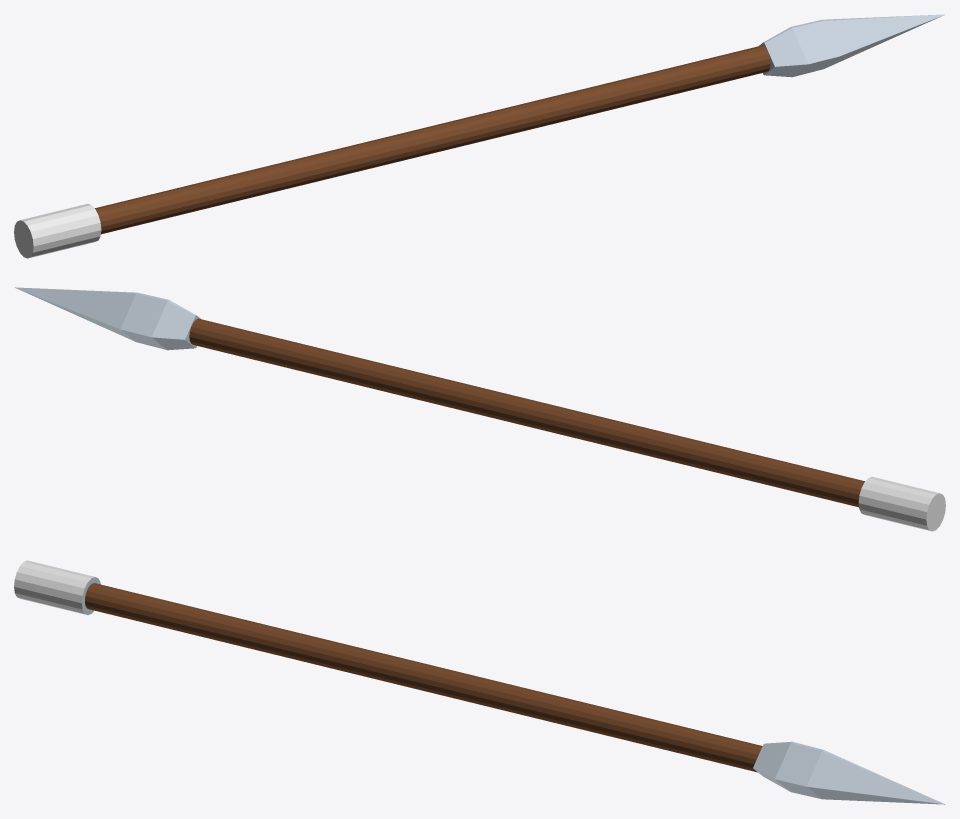
File: spear.fbx
3 renders of one model, top to bottom at view 1: azimuth 30°, elevation 25°; view 2: azimuth 150°, elevation 25°; view 3: azimuth 330°, elevation 25°, orthographic.
Parts seen in each view (by area): view 1: 실린더.001; view 2: 실린더.001; view 3: 실린더.001.
Boxes of the visible parts, <box> form: 실린더.001: <box>14,14,945,258</box>; 실린더.001: <box>14,287,945,531</box>; 실린더.001: <box>14,560,945,804</box>.
Size of the model in its own units: 3088 by 157 by 195.
